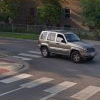crosswalk: (0, 72, 100, 100), (12, 49, 43, 61)
